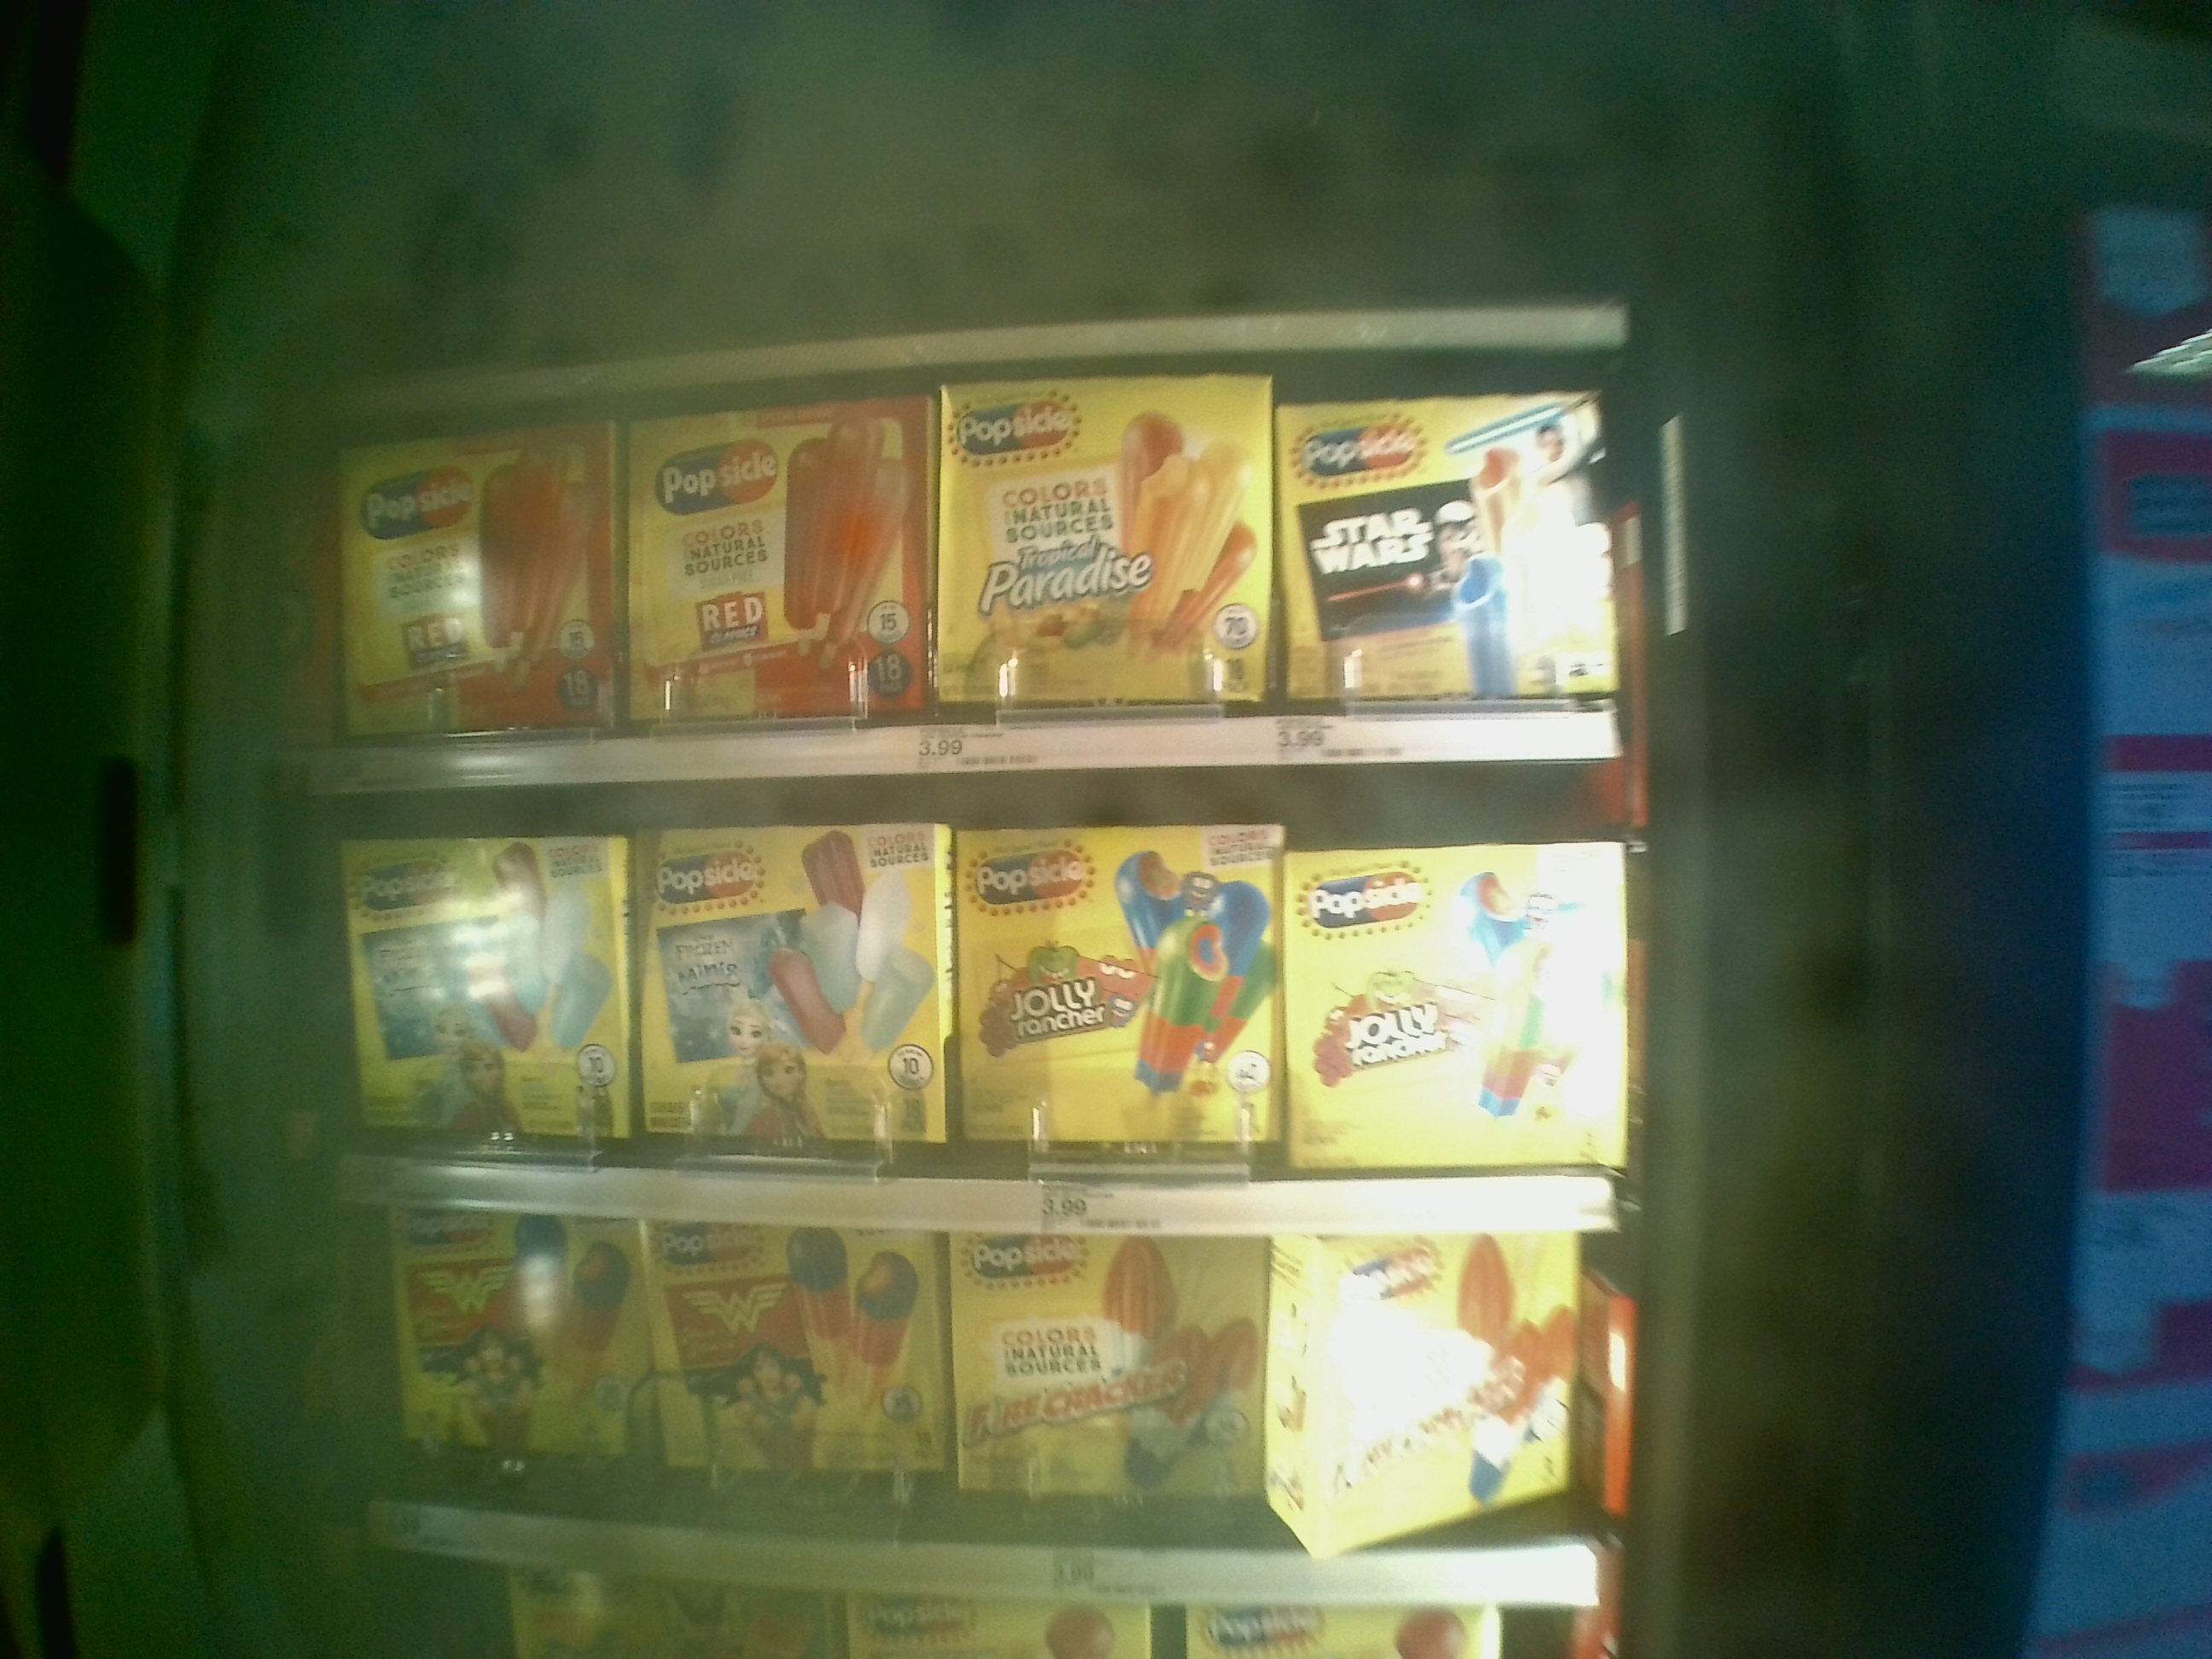frozen-food-shelf: (327, 788, 1611, 1227), (364, 1213, 1608, 1610), (296, 430, 1629, 786)
